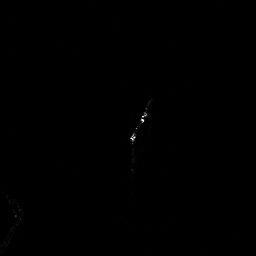ship: (128, 108, 149, 142)
